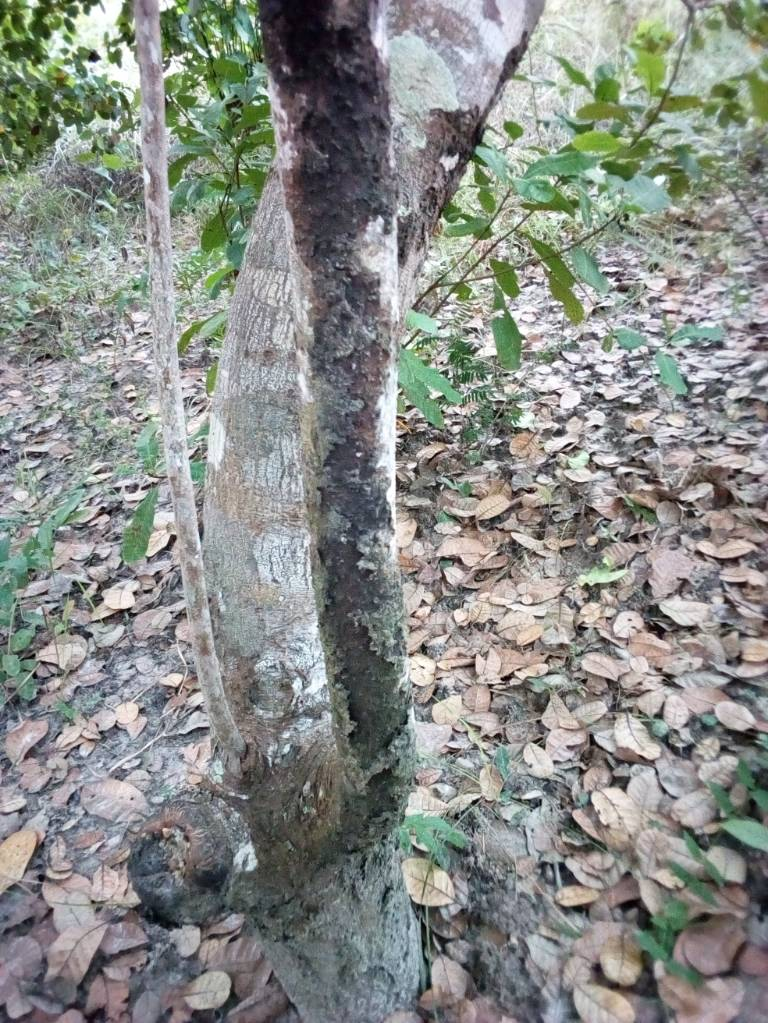Termites: (286, 8, 407, 755)
